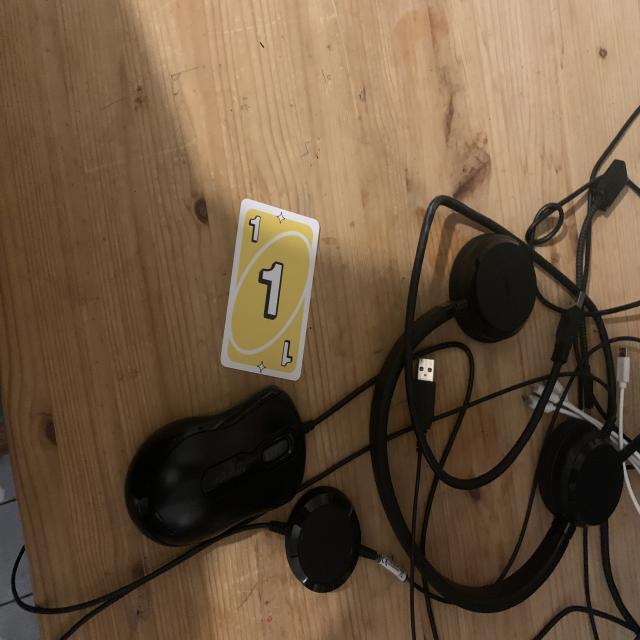lyellow-1: (243, 211, 266, 251)
